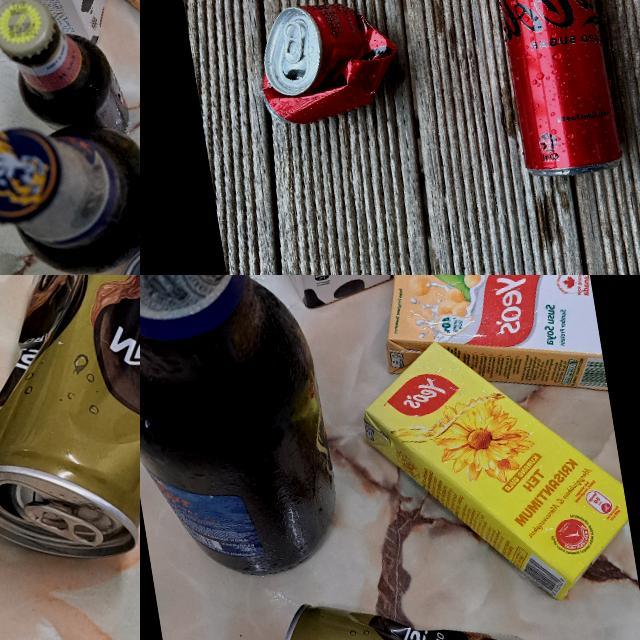aba de lata: (20, 488, 106, 558), (278, 20, 306, 66)
caixinha: (352, 314, 640, 628), (372, 275, 609, 430), (0, 0, 120, 71)
garrafa de vidro: (140, 275, 346, 593), (0, 106, 140, 275), (0, 0, 133, 156)
lata: (0, 275, 140, 581), (258, 561, 589, 640), (487, 0, 626, 184), (249, 0, 407, 130)
